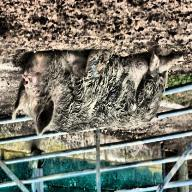boar: (12, 51, 183, 137)
